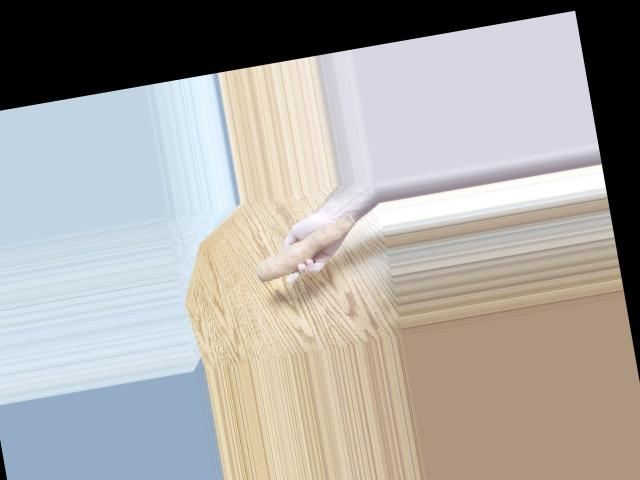sweet_potato: (252, 212, 361, 275)
